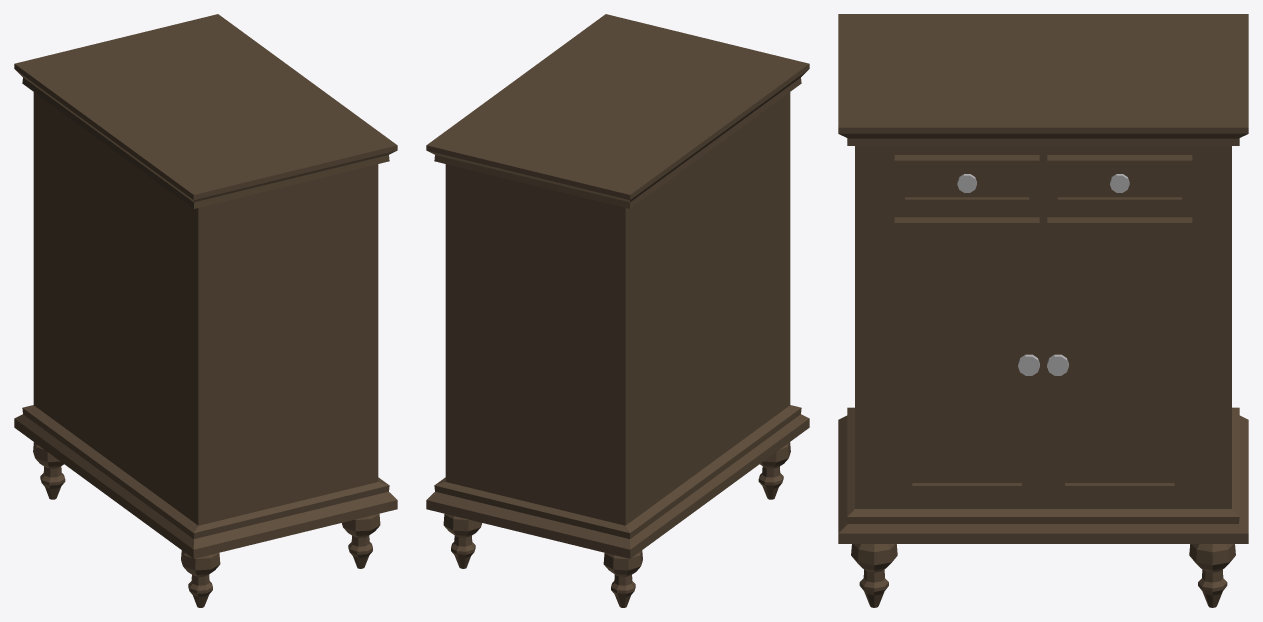
The model's file is SM_Cupboard_06.glb.
The picture shows the model from 3 angles, left to right: view 1: azimuth 30°, elevation 25°; view 2: azimuth 150°, elevation 25°; view 3: azimuth 270°, elevation 25°; orthographic projection. The views are drawn at different scales.
Visible parts, largest first — view 1: SM_Cupboard_06; view 2: SM_Cupboard_06; view 3: SM_Cupboard_06.
Boxes of the visible parts, x1=… form: SM_Cupboard_06: x1=14, y1=14, x2=397, y2=607; SM_Cupboard_06: x1=426, y1=14, x2=809, y2=607; SM_Cupboard_06: x1=838, y1=14, x2=1248, y2=607.
Bounding box in the file's own units: 0.5642 × 1.12 × 0.8517.
Materials: 1 (1 with a texture image).
